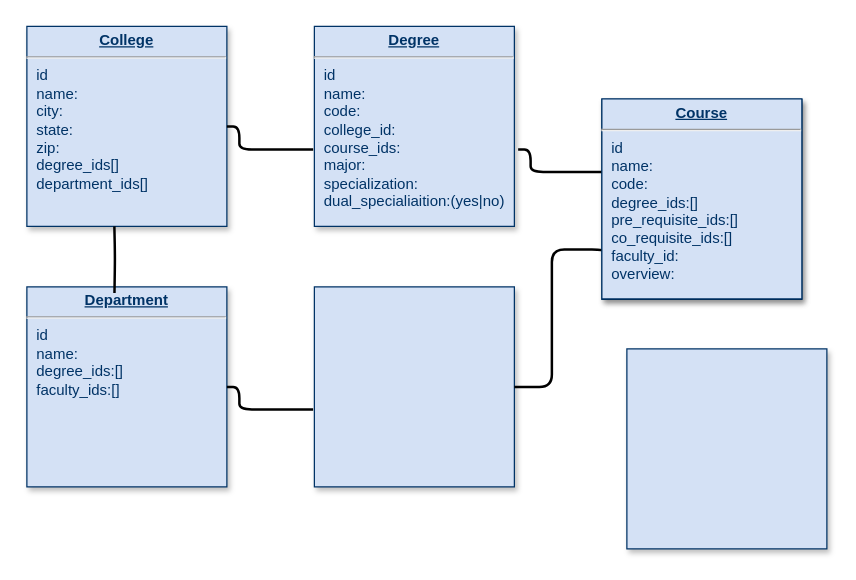
This 856x580 diagram has some shape labels left out. The shapes that lost their labels are listed below. From the top down, each one's centre as x and y in pixels, then its label:
At pixel 415 388: "Faculty id name: email: course_ids: faculty_webpage_link: position:".
At pixel 727 450: "Student id name: college_id: degree_id: specialization: liking/interest:".
